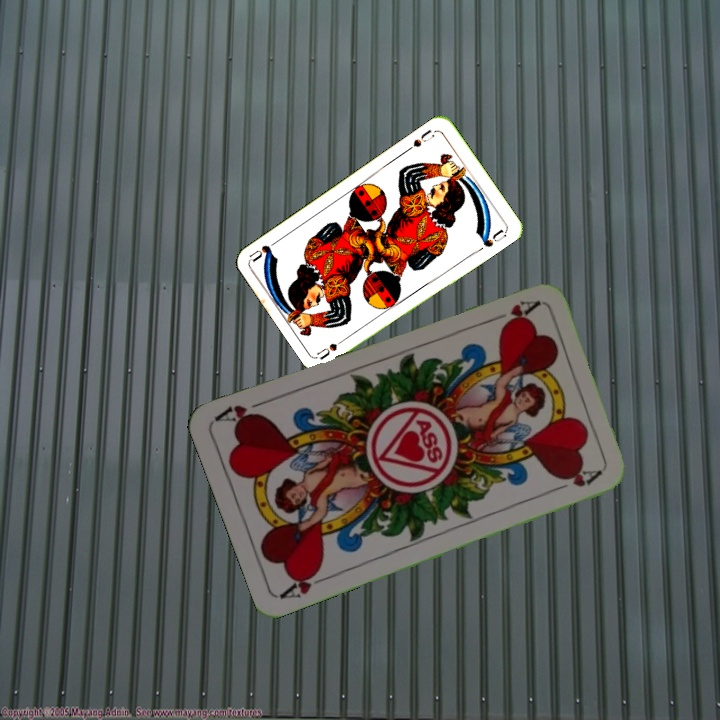HA: (277, 564, 334, 602), (484, 296, 541, 325)
SU: (314, 332, 352, 361), (403, 125, 439, 154)
